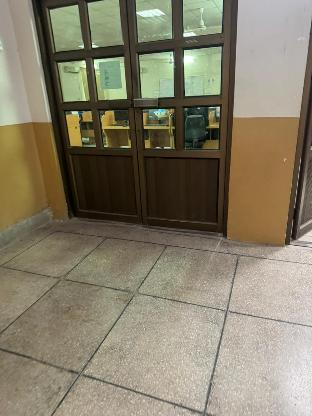door: (28, 0, 240, 244)
